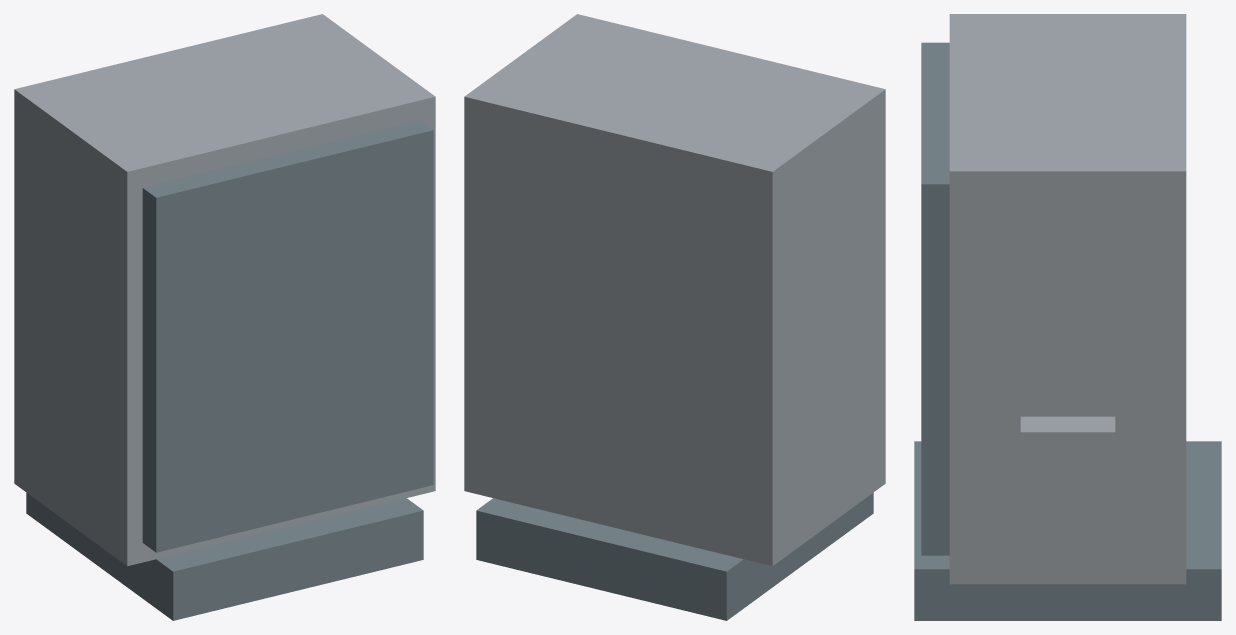
3 renders of one model, left to right at view 1: azimuth 30°, elevation 25°; view 2: azimuth 150°, elevation 25°; view 3: azimuth 270°, elevation 25°, orthographic. The views are drawn at different scales.
Visible parts, largest first — view 1: g0.003, g0.001, g0.002; view 2: g0.001, g0.002; view 3: g0.001, g0.002, g0.003, g0.
Part boxes in pixels (x1,y1,x2,y2): g0.003: (142,120,433,552); g0.001: (14,14,435,566); g0.002: (26,492,423,620); g0.001: (464,14,885,566); g0.002: (476,492,873,620); g0.001: (949,14,1186,584); g0.002: (914,441,1221,620); g0.003: (921,42,949,555); g0: (1020,416,1115,509).
Size of the model in its own units: 0.16 by 0.2 by 0.12.
